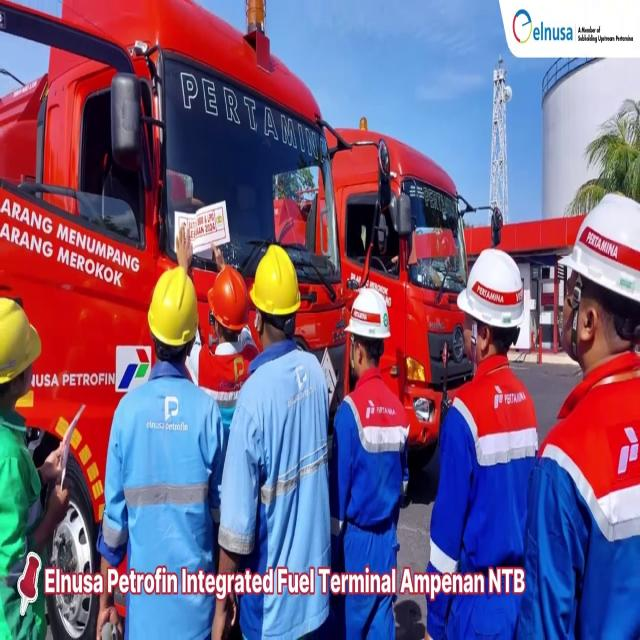Hardhat: (556, 192, 640, 301), (453, 251, 522, 319), (149, 270, 198, 344), (0, 298, 42, 383), (250, 248, 304, 310), (206, 265, 252, 333), (344, 292, 393, 336)
No Glove: (44, 481, 74, 533), (211, 593, 238, 640), (96, 595, 122, 640), (45, 444, 70, 476), (174, 230, 192, 271), (211, 244, 226, 266)
Overall Suit: (516, 355, 640, 640), (428, 355, 538, 640), (330, 368, 408, 640)
Strapped: (570, 275, 581, 360), (469, 318, 478, 362), (349, 335, 356, 374)
